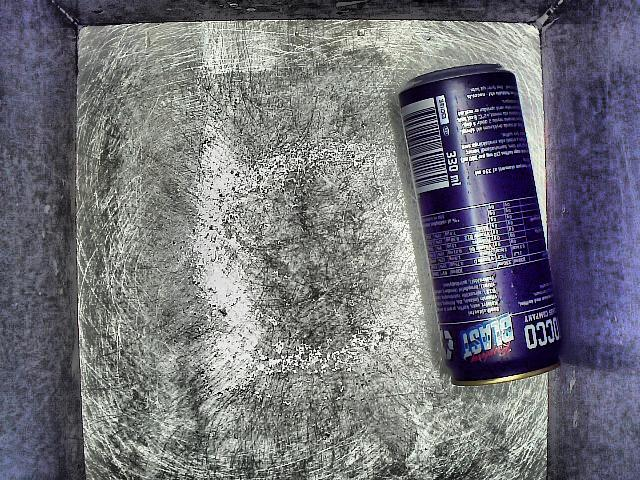Bottles: (380, 62, 578, 404)
